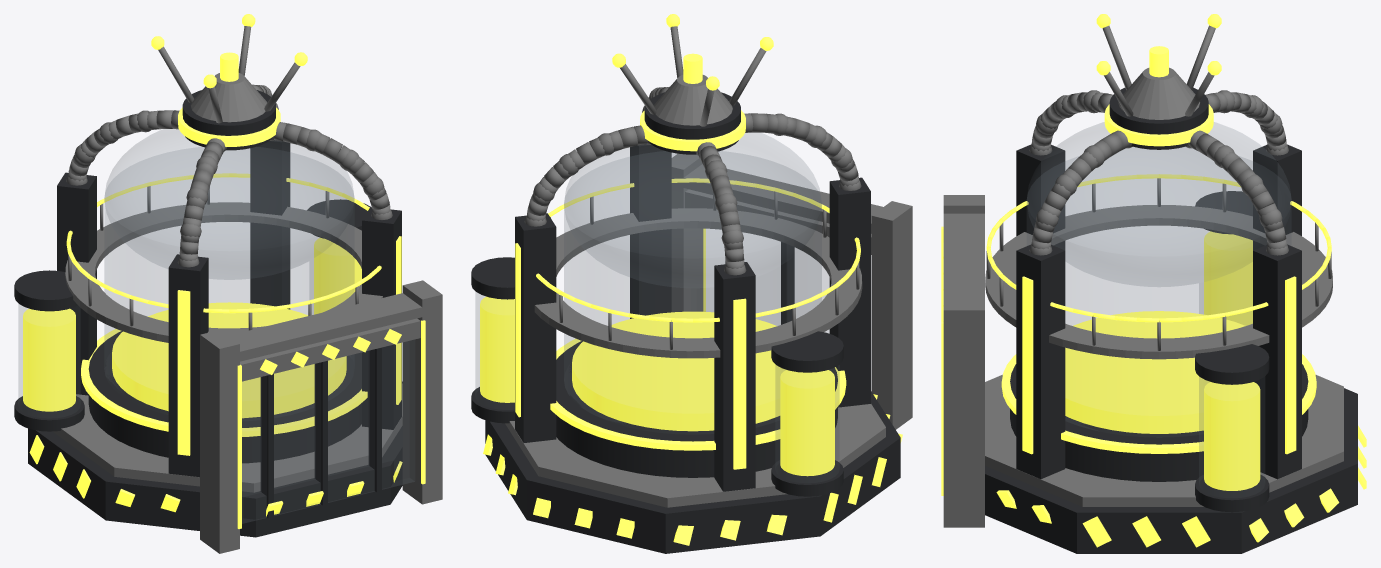
Rendered from MonsterVat_SOLAR.glb.
3 views of the same model, side by side, from view 1: azimuth 30°, elevation 25°; view 2: azimuth 150°, elevation 25°; view 3: azimuth 270°, elevation 25° (orthographic). The views are drawn at different scales.
Parts seen in each view (by area): view 1: MonsterVat_SOLAR, MonsterVat_SOLAR_Gate; view 2: MonsterVat_SOLAR, MonsterVat_SOLAR_Gate; view 3: MonsterVat_SOLAR.
Part boxes in pixels (box(x1,y1,x2,y2)): MonsterVat_SOLAR: box(14, 14, 442, 553); MonsterVat_SOLAR_Gate: box(240, 318, 420, 523); MonsterVat_SOLAR: box(471, 14, 912, 553); MonsterVat_SOLAR_Gate: box(685, 189, 871, 390); MonsterVat_SOLAR: box(941, 14, 1366, 553).
Size of the model in its own units: 5.21 by 5.77 by 5.15.
